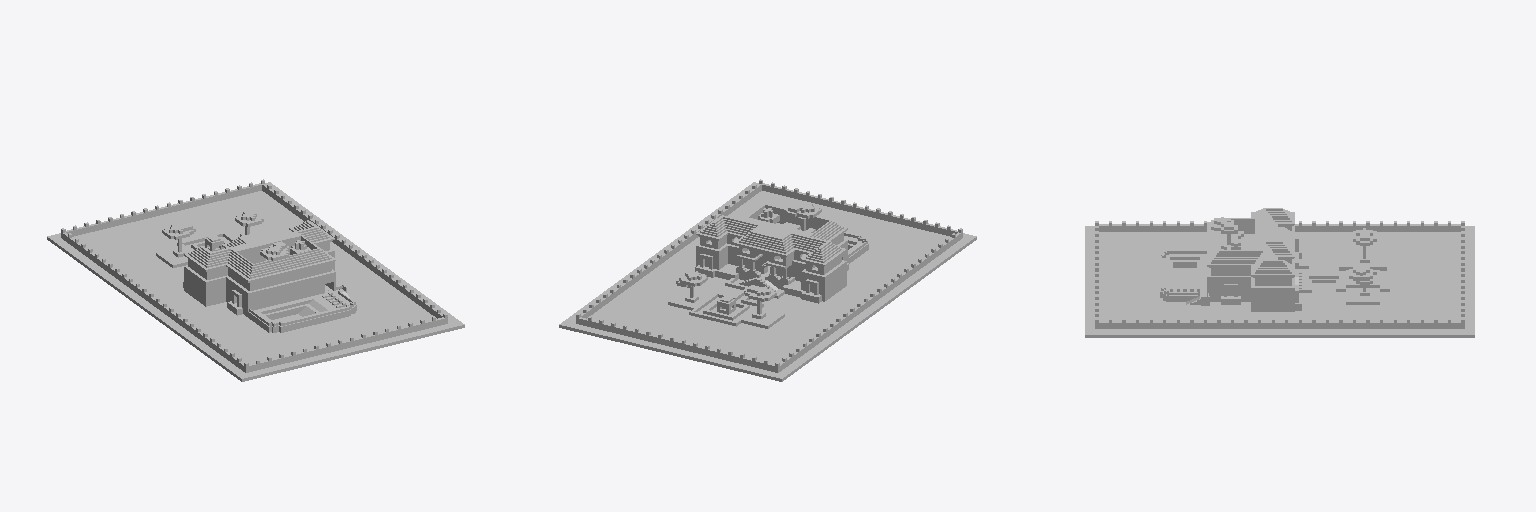
3 renders of one model, left to right at view 1: azimuth 30°, elevation 25°; view 2: azimuth 150°, elevation 25°; view 3: azimuth 270°, elevation 25°, orthographic.
Parts seen in each view (by area): view 1: Grass_Block, Leaves, Stone, Block_of_Quartz, Brick_Stairs, Block_of_Iron, Stone_Bricks, Leaves__Acacia_Dark_Oak__Leaves_(Acacia/Dark_Oak), Stone_Brick_Stairs, Glass; view 2: Grass_Block, Leaves, Brick_Stairs, Stone_Bricks, Block_of_Quartz, Stone, Stone_Brick_Stairs, Leaves__Acacia_Dark_Oak__Leaves_(Acacia/Dark_Oak); view 3: Grass_Block, Leaves, Brick_Stairs, Block_of_Quartz, Stone, Block_of_Iron, Stone_Bricks, Leaves__Acacia_Dark_Oak__Leaves_(Acacia/Dark_Oak), Stone_Brick_Stairs.
Boxes of the visible parts, x1,y1,x2,y2 form: Grass_Block: [47, 182, 464, 381]; Leaves: [63, 183, 444, 371]; Stone: [186, 243, 333, 316]; Block_of_Quartz: [61, 179, 447, 372]; Brick_Stairs: [188, 220, 331, 278]; Block_of_Iron: [248, 290, 356, 332]; Stone_Bricks: [184, 236, 335, 316]; Leaves__Acacia_Dark_Oak__Leaves_(Acacia/Dark_Oak): [162, 212, 289, 260]; Stone_Brick_Stairs: [184, 222, 335, 282]; Glass: [235, 235, 306, 263]; Grass_Block: [559, 182, 976, 381]; Leaves: [579, 183, 960, 371]; Brick_Stairs: [700, 204, 843, 262]; Stone_Bricks: [696, 233, 847, 320]; Block_of_Quartz: [576, 179, 962, 372]; Stone: [699, 212, 846, 299]; Stone_Brick_Stairs: [696, 206, 847, 305]; Leaves__Acacia_Dark_Oak__Leaves_(Acacia/Dark_Oak): [676, 203, 821, 301]; Grass_Block: [1085, 226, 1474, 337]; Leaves: [1095, 224, 1464, 328]; Brick_Stairs: [1211, 208, 1291, 273]; Block_of_Quartz: [1095, 221, 1464, 328]; Stone: [1211, 226, 1291, 311]; Block_of_Iron: [1160, 254, 1206, 301]; Stone_Bricks: [1207, 225, 1379, 311]; Leaves__Acacia_Dark_Oak__Leaves_(Acacia/Dark_Oak): [1211, 217, 1376, 284]; Stone_Brick_Stairs: [1207, 212, 1367, 277].
Size of the model in its own units: 76 by 20 by 115.